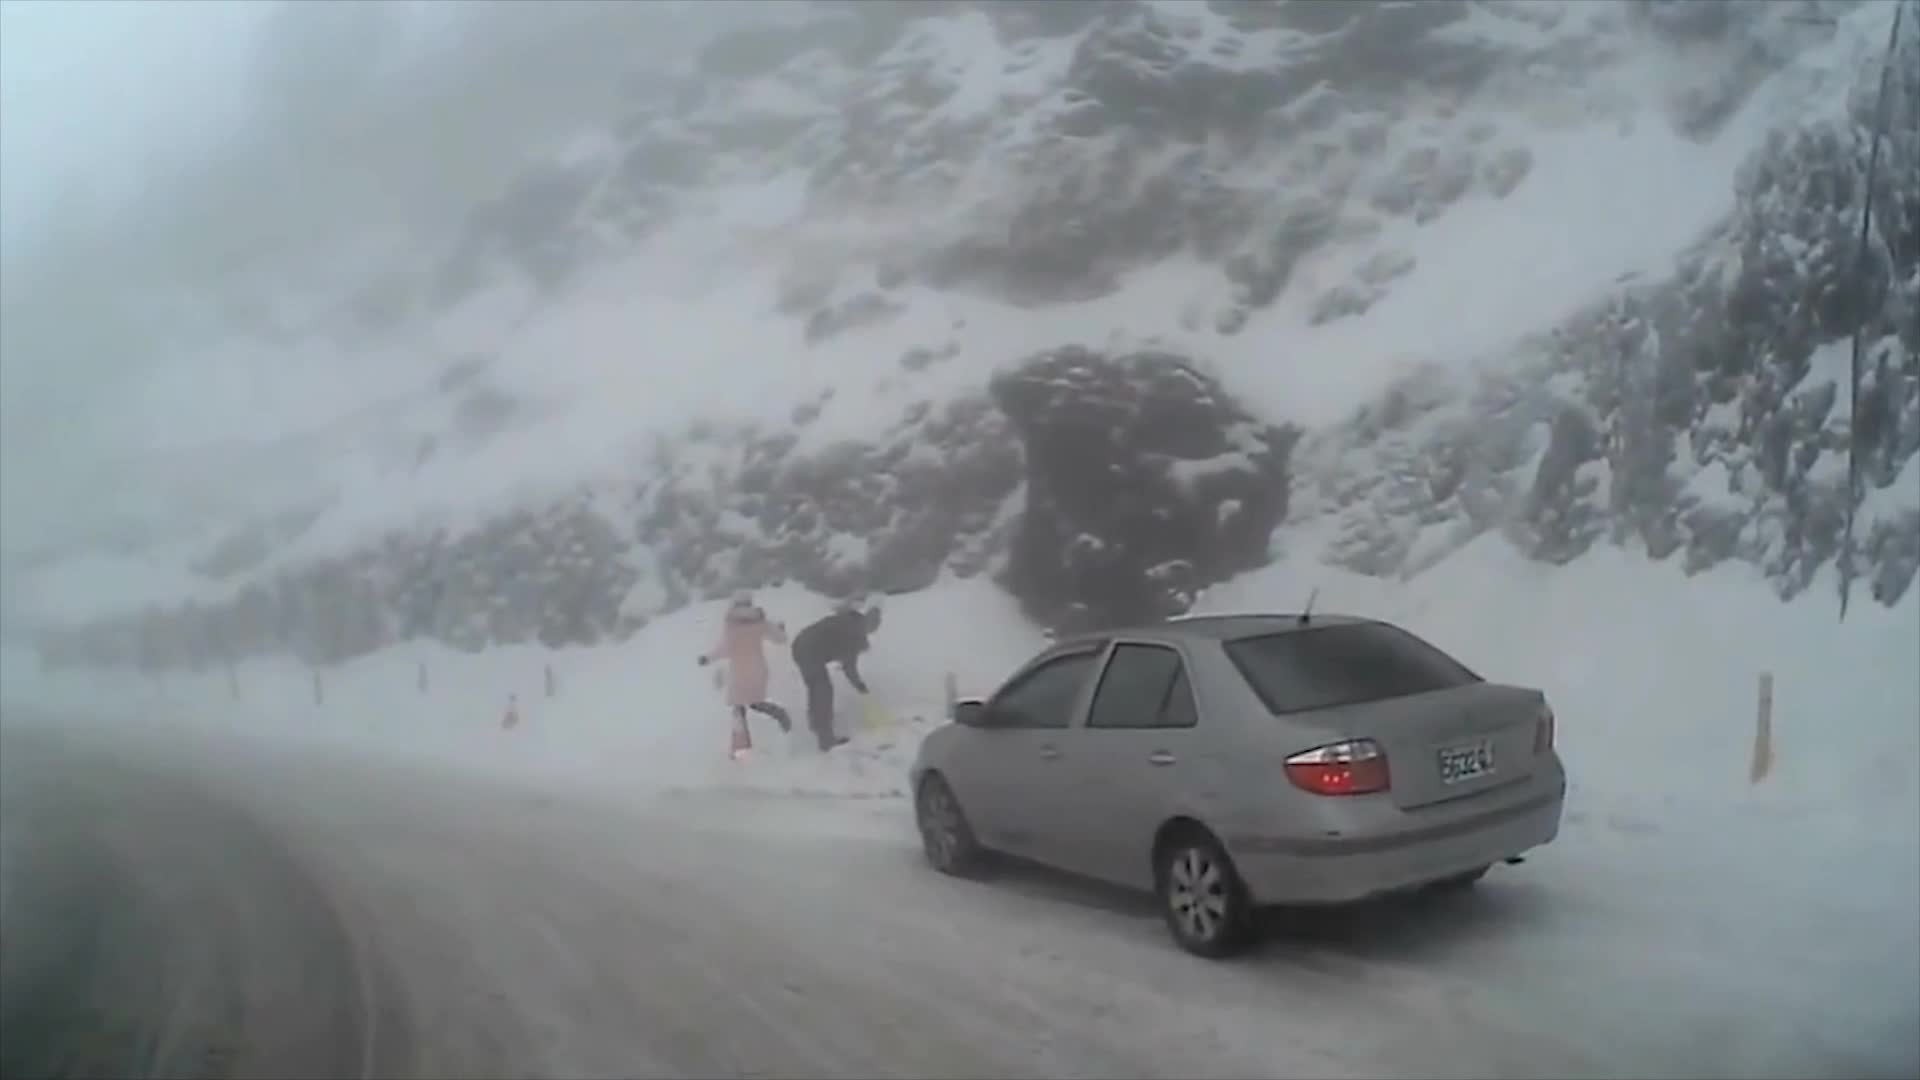pedestrian: (701, 589, 797, 760), (794, 605, 882, 750)
vehicle: (910, 611, 1565, 962)
